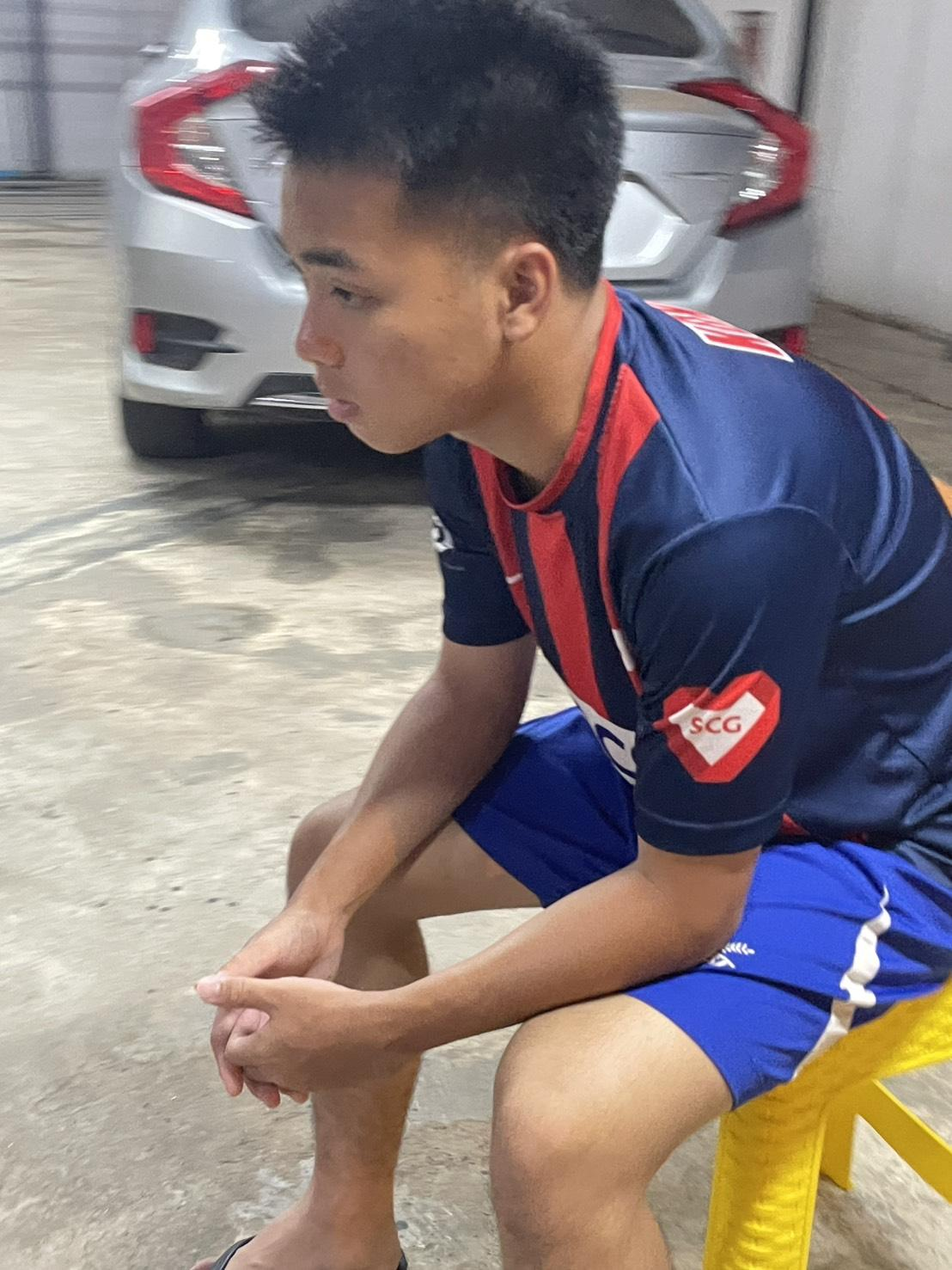BadPosture: (254, 0, 951, 884)
